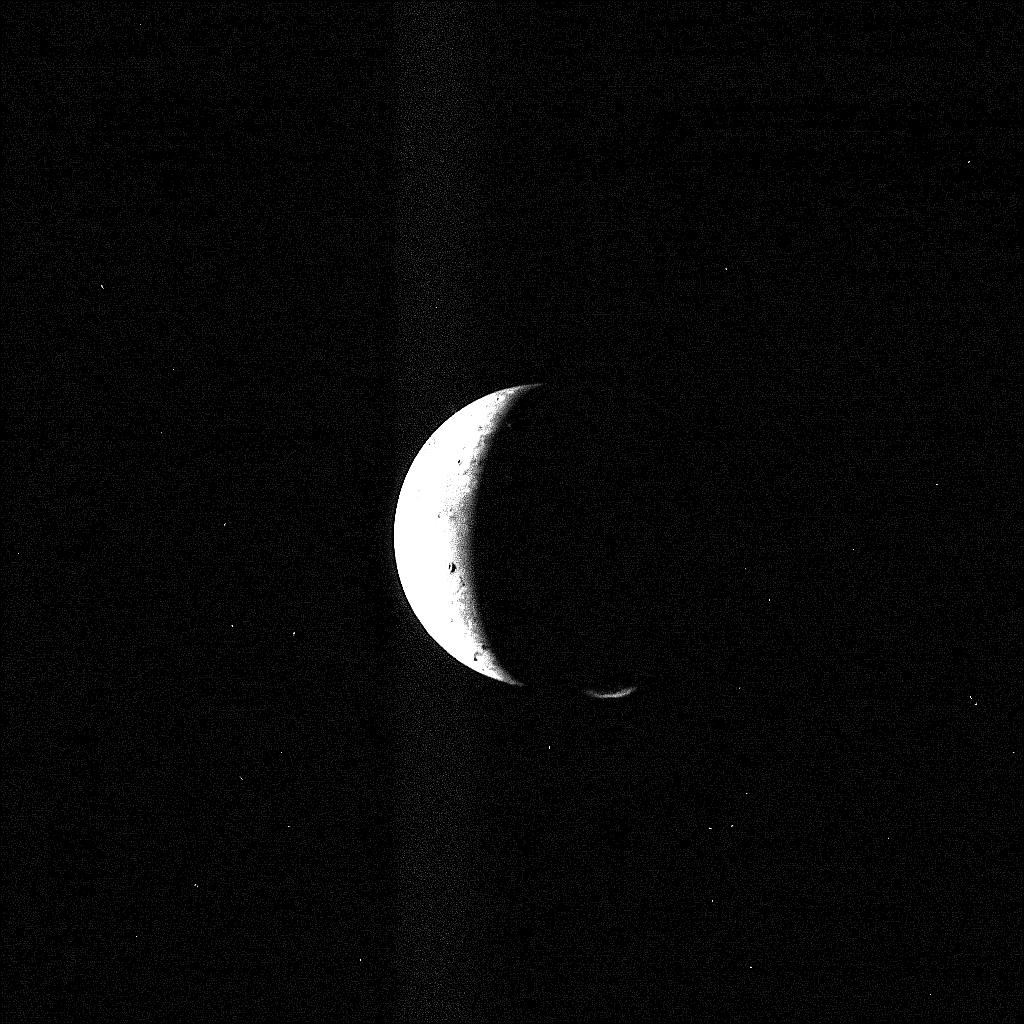plumes: (586, 688, 634, 700)
